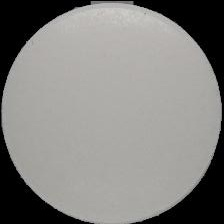68788-9042: (0, 0, 224, 224)
